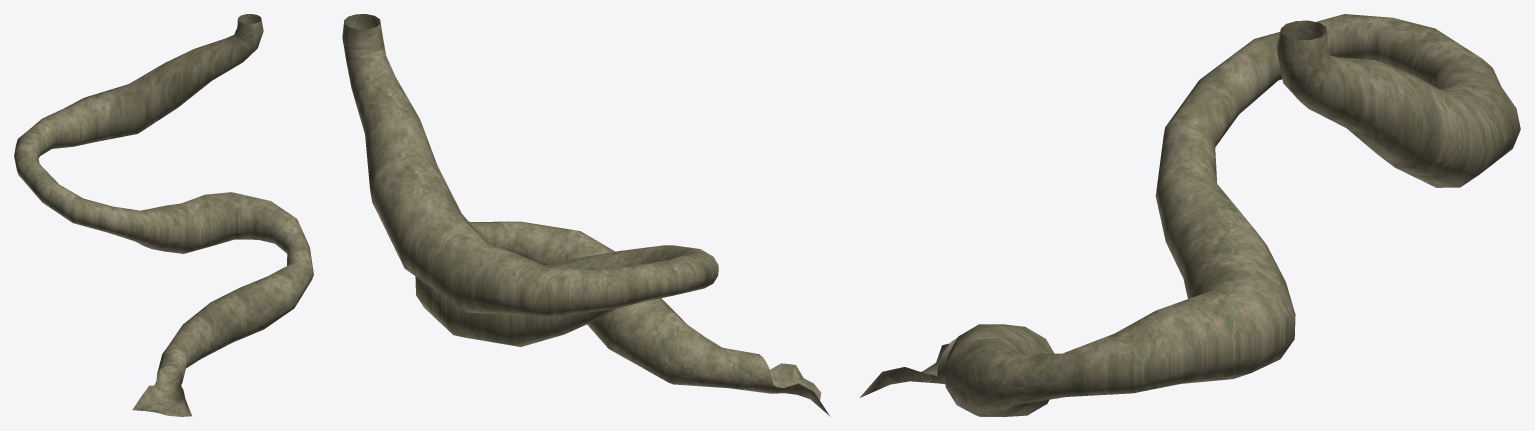
The model's file is EKH_CAVERNS_PS_CA_BIG_SLIDE.fbx.
3 renders of one model, left to right at view 1: azimuth 30°, elevation 25°; view 2: azimuth 150°, elevation 25°; view 3: azimuth 270°, elevation 25°, orthographic. The views are drawn at different scales.
Parts seen in each view (by area): view 1: EKH_CAVERNS_PS_CA_BIG_SLIDE; view 2: EKH_CAVERNS_PS_CA_BIG_SLIDE; view 3: EKH_CAVERNS_PS_CA_BIG_SLIDE.
Boxes of the visible parts, <box> form: EKH_CAVERNS_PS_CA_BIG_SLIDE: <box>14,14,313,416</box>; EKH_CAVERNS_PS_CA_BIG_SLIDE: <box>342,14,830,416</box>; EKH_CAVERNS_PS_CA_BIG_SLIDE: <box>860,14,1520,416</box>.
Size of the model in its own units: 264127 by 295359 by 333381.
1 material, 1 textured.
